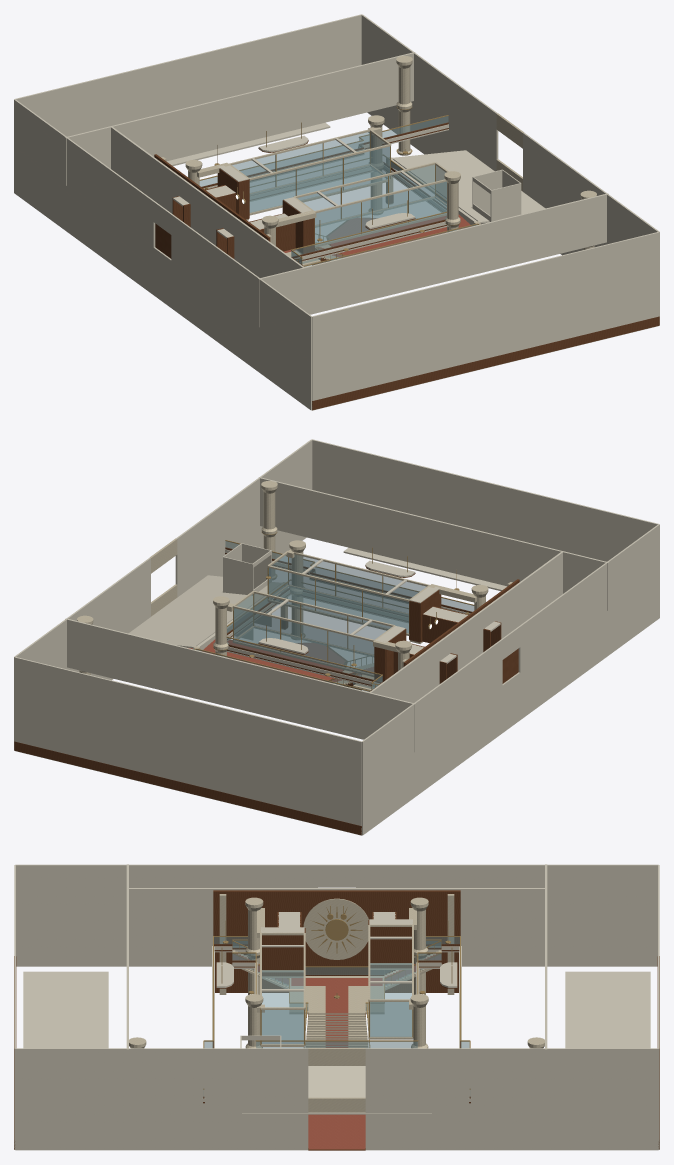
The model's file is AST-ARR-002.glb.
3 renders of one model, top to bottom at view 1: azimuth 30°, elevation 25°; view 2: azimuth 150°, elevation 25°; view 3: azimuth 270°, elevation 25°, orthographic. The views are drawn at different scales.
Visible parts, largest first — view 1: ARR_OuterEnd_-398.15, ARR_OuterEnd_-465.85, ARR_OpaqueServiceScreen_1, ARR_WestLowerOpaque, ARR_OpaqueServiceScreen_0, ARR_EastEnclosure_-465.85, ARR_WestServiceEnclosure_-430, ARR_WestServiceEnclosure_-465.85, ARR_EastEnclosure_-429, ARR_ExhibitGlassSide_0.002, ARR_ExhibitGlassSide_0, ARR_ExhibitGlassSide_1.002 (+23 smaller); view 2: ARR_OuterEnd_-465.85, ARR_OuterEnd_-398.15, ARR_OpaqueServiceScreen_0, ARR_WestLowerOpaque, ARR_OpaqueServiceScreen_1, ARR_EastEnclosure_-429, ARR_WestServiceEnclosure_-465.85, ARR_WestServiceEnclosure_-430, ARR_EastEnclosure_-465.85, ARR_ExhibitGlassSide_1, ARR_ExhibitGlassSide_0, ARR_ExhibitGlassSide_0.002 (+23 smaller); view 3: ARR_EastEnclosure_-465.85, ARR_EastEnclosure_-429, ARR_WestLowerOpaque, ARR_WestServiceEnclosure_-465.85, ARR_WestServiceEnclosure_-430, ARR_HospitalityCanopy_1_0, ARR_HospitalityCanopy_2_0, ARR_OpaqueServiceScreen_2_solid_-438.2, ARR_OpaqueServiceScreen_2_end, ARR_ExhibitGlassBelly_0, ARR_StairFocalWall_end, ARR_StairFocalWall_solid_-438.2 (+31 smaller).
Boxes of the visible parts, left/top/right/bottom form: ARR_OuterEnd_-398.15: left=312, top=232, right=659, bottom=410; ARR_OuterEnd_-465.85: left=14, top=14, right=361, bottom=136; ARR_OpaqueServiceScreen_1: left=258, top=193, right=608, bottom=327; ARR_WestLowerOpaque: left=14, top=145, right=311, bottom=410; ARR_OpaqueServiceScreen_0: left=65, top=52, right=415, bottom=185; ARR_EastEnclosure_-465.85: left=361, top=14, right=498, bottom=171; ARR_WestServiceEnclosure_-430: left=171, top=214, right=311, bottom=362; ARR_WestServiceEnclosure_-465.85: left=14, top=99, right=155, bottom=247; ARR_EastEnclosure_-429: left=523, top=133, right=659, bottom=324; ARR_ExhibitGlassSide_0.002: left=249, top=146, right=389, bottom=212; ARR_ExhibitGlassSide_0: left=232, top=132, right=369, bottom=192; ARR_ExhibitGlassSide_1.002: left=315, top=182, right=446, bottom=243; ARR_OuterEnd_-465.85: left=14, top=657, right=361, bottom=835; ARR_OuterEnd_-398.15: left=312, top=439, right=659, bottom=561; ARR_OpaqueServiceScreen_0: left=65, top=618, right=415, bottom=752; ARR_WestLowerOpaque: left=362, top=570, right=659, bottom=835; ARR_OpaqueServiceScreen_1: left=258, top=477, right=608, bottom=610; ARR_EastEnclosure_-429: left=175, top=439, right=312, bottom=597; ARR_WestServiceEnclosure_-465.85: left=362, top=639, right=502, bottom=787; ARR_WestServiceEnclosure_-430: left=518, top=524, right=659, bottom=672; ARR_EastEnclosure_-465.85: left=14, top=558, right=150, bottom=749; ARR_ExhibitGlassSide_1: left=268, top=568, right=408, bottom=633; ARR_ExhibitGlassSide_0: left=234, top=608, right=374, bottom=674; ARR_ExhibitGlassSide_0.002: left=254, top=593, right=391, bottom=654; ARR_EastEnclosure_-465.85: left=365, top=1048, right=658, bottom=1150; ARR_EastEnclosure_-429: left=15, top=1048, right=308, bottom=1150; ARR_WestLowerOpaque: left=16, top=915, right=657, bottom=966; ARR_WestServiceEnclosure_-465.85: left=356, top=864, right=658, bottom=914; ARR_WestServiceEnclosure_-430: left=15, top=864, right=317, bottom=914; ARR_HospitalityCanopy_1_0: left=565, top=971, right=650, bottom=1048; ARR_HospitalityCanopy_2_0: left=23, top=971, right=108, bottom=1048; ARR_OpaqueServiceScreen_2_solid_-438.2: left=396, top=888, right=544, bottom=940; ARR_OpaqueServiceScreen_2_end: left=129, top=888, right=277, bottom=940; ARR_ExhibitGlassBelly_0: left=370, top=963, right=411, bottom=1036; ARR_StairFocalWall_end: left=213, top=890, right=277, bottom=992; ARR_StairFocalWall_solid_-438.2: left=396, top=890, right=460, bottom=992.
Size of the model in its own units: 46 by 12 by 67.95.
Materials: 7 (5 with a texture image).
